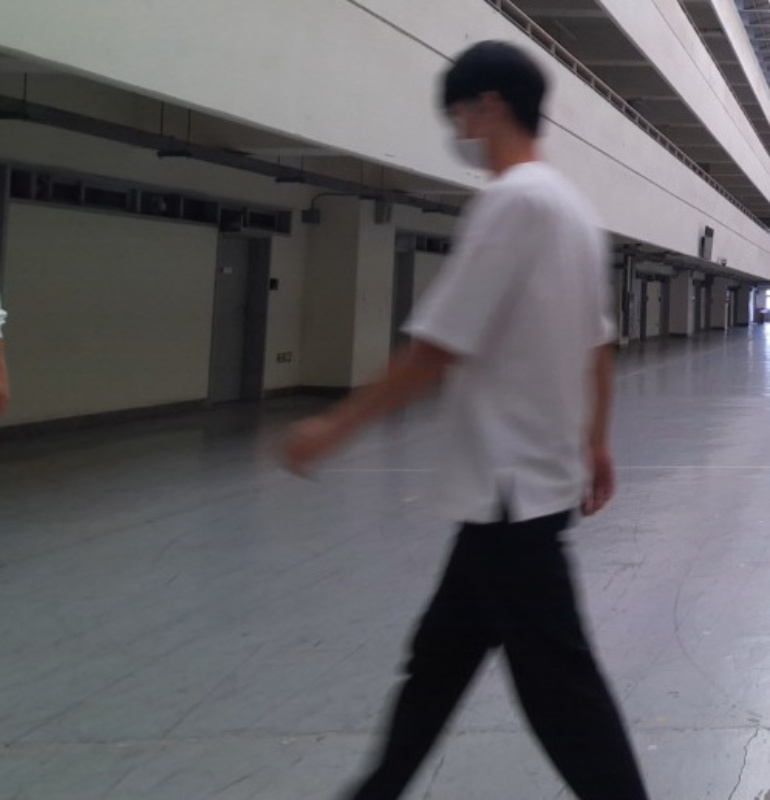person: (276, 36, 663, 799)
